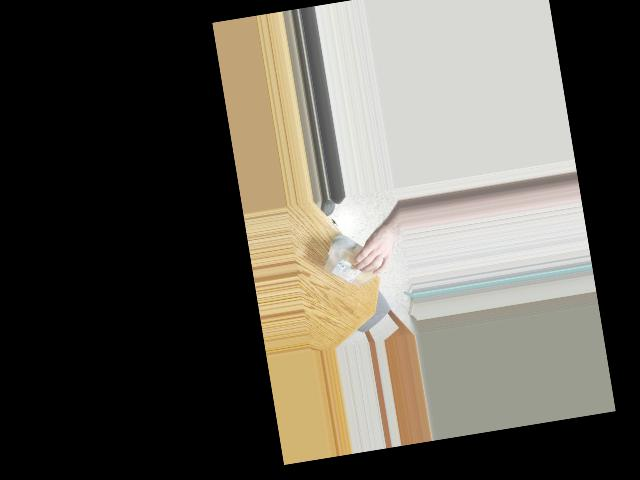cheese: (318, 230, 392, 293)
